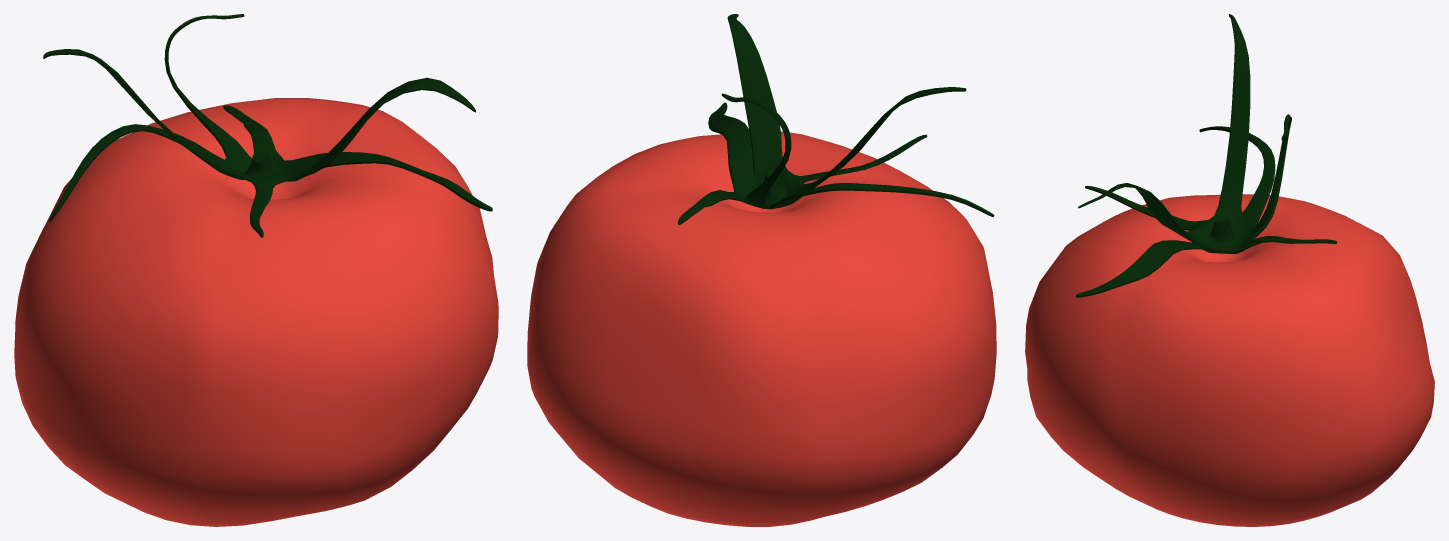
File: Tomato_03.fbx
3 renders of one model, left to right at view 1: azimuth 30°, elevation 25°; view 2: azimuth 150°, elevation 25°; view 3: azimuth 270°, elevation 25°, orthographic. The views are drawn at different scales.
Visible parts, largest first — view 1: TomatoSample3_LOD0; view 2: TomatoSample3_LOD0; view 3: TomatoSample3_LOD0.
Part boxes in pixels (x1,y1,x2,y2): TomatoSample3_LOD0: (14,14,498,526); TomatoSample3_LOD0: (527,14,996,526); TomatoSample3_LOD0: (1025,14,1434,526).
Size of what is drawn, in the model's own units: 31.33 by 32.92 by 30.98.
